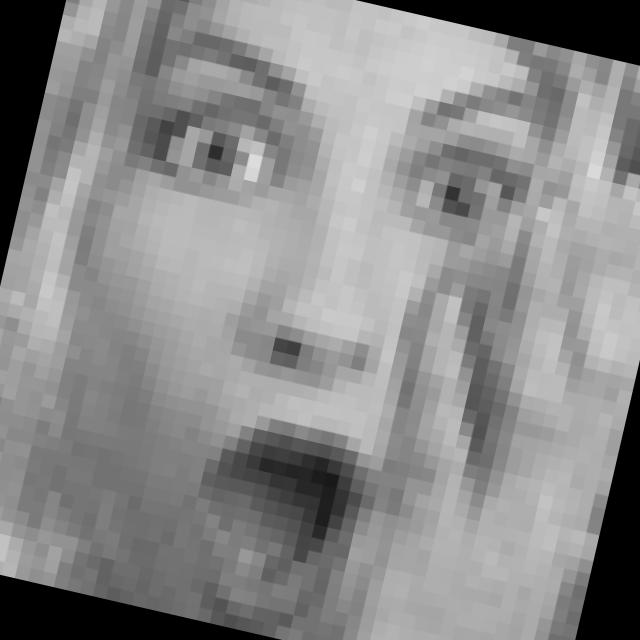surprise: (23, 4, 550, 640)
